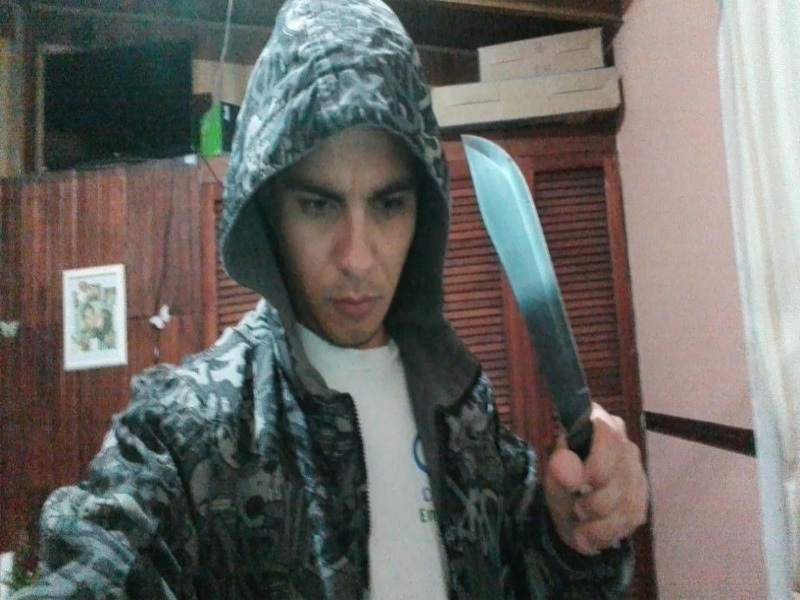bonnet: (219, 1, 448, 332)
hand: (543, 405, 658, 557)
knife: (460, 134, 590, 460)
person: (43, 3, 649, 600)
